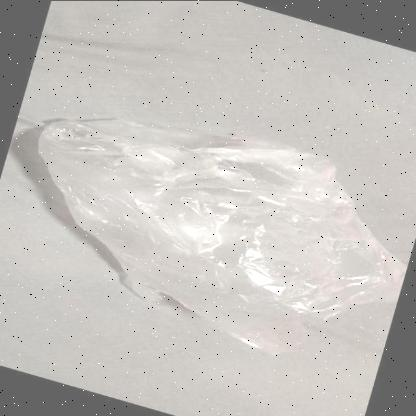Others: (42, 115, 410, 354)
